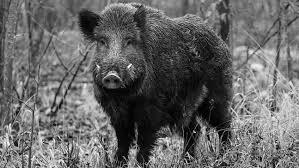wildboar: (76, 2, 236, 166)
